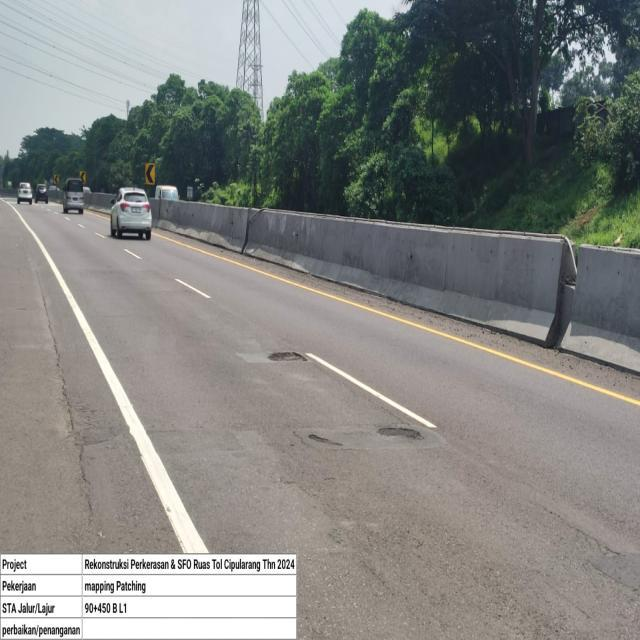Buraco: (375, 426, 427, 442), (306, 432, 346, 448), (266, 350, 310, 363)
